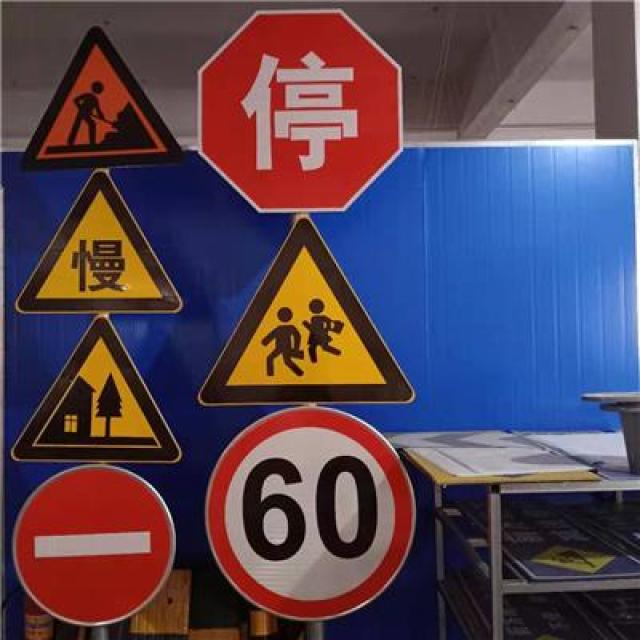speed limit 60: (204, 406, 420, 620)
